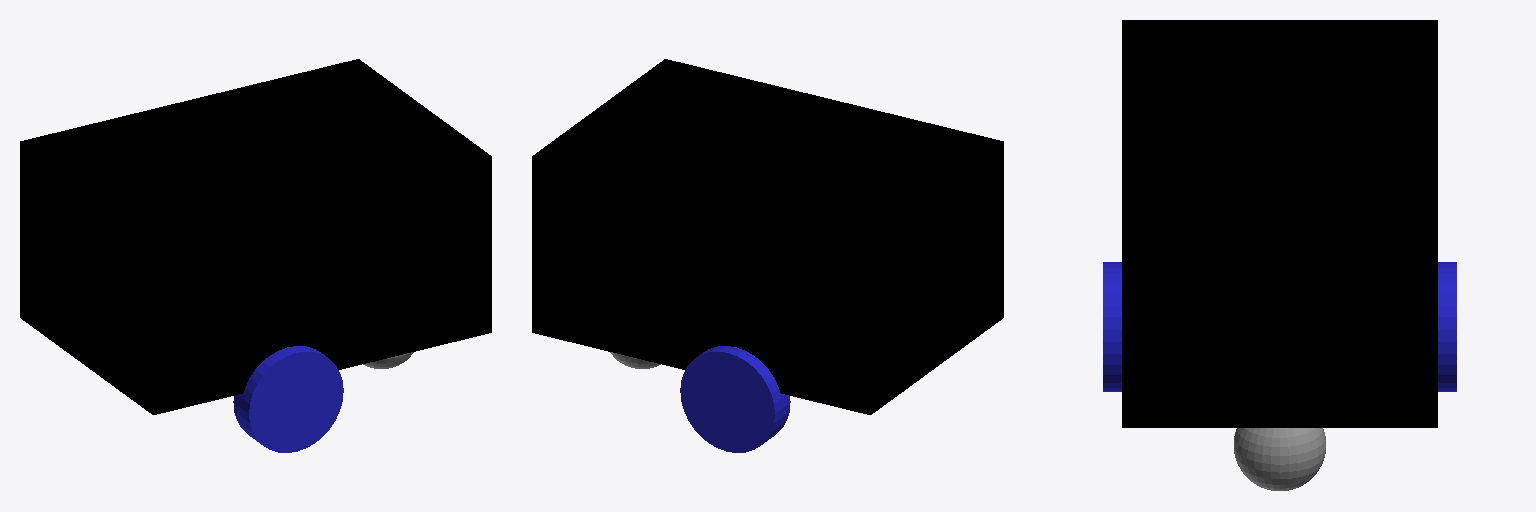
The robot description file, URDF, robot "burger_gazebo":
<?xml version="1.0"?>
<robot name="burger_gazebo">

  <!-- ================= MATERIALI ================= -->
  <material name="black"><color rgba="0.05 0.05 0.05 1"/></material>
  <material name="gray"><color rgba="0.6 0.6 0.6 1"/></material>
  <material name="green"><color rgba="0.2 0.8 0.2 1"/></material>
  <material name="blue"><color rgba="0.2 0.2 0.8 1"/></material>
  <material name="semi_black"><color rgba="0 0 0 0.8"/></material>

  <!-- ================= BASE FOOTPRINT ================= -->
  <link name="base_footprint"/>

  <joint name="base_footprint_to_base_link" type="fixed">
    <parent link="base_footprint"/>
    <child link="base_link"/>
    <origin xyz="0.025 0 0.043"/>
  </joint>

  <!-- ================= BASE LINK ================= -->
  <link name="base_link">
    <visual>
      <geometry><box size="0.25 0.17 0.125"/></geometry>
      <origin xyz="0 0 0.0625"/>
      <material name="semi_black"/>
    </visual>

    <collision>
      <geometry><box size="0.25 0.17 0.125"/></geometry>
      <origin xyz="0 0 0.0625"/>
    </collision>

    <inertial>
      <mass value="3.0"/>
      <origin xyz="0 0 0.0625"/>
      <inertia
        ixx="0.011"
        iyy="0.019"
        izz="0.023"
        ixy="0" ixz="0" iyz="0"/>
    </inertial>
  </link>

  <!-- ================= RUOTA SINISTRA ================= -->
  <link name="left_wheel">
    <visual>
      <geometry><cylinder radius="0.035" length="0.02"/></geometry>
      <material name="blue"/>
    </visual>

    <collision>
      <geometry><cylinder radius="0.035" length="0.02"/></geometry>
    </collision>

    <inertial>
      <mass value="0.2"/>
      <inertia ixx="0.0001" iyy="0.0001" izz="0.0001"
               ixy="0" ixz="0" iyz="0"/>
    </inertial>
  </link>

  <joint name="left_wheel_joint" type="continuous">
    <parent link="base_link"/>
    <child link="left_wheel"/>
    <origin xyz="-0.025 0.085 -0.010" rpy="1.570796 0 0"/>
    <axis xyz="0 1 0"/>
  </joint>

  <!-- ================= RUOTA DESTRA ================= -->
  <link name="right_wheel">
    <visual>
      <geometry><cylinder radius="0.035" length="0.02"/></geometry>
      <material name="blue"/>
    </visual>

    <collision>
      <geometry><cylinder radius="0.035" length="0.02"/></geometry>
    </collision>

    <inertial>
      <mass value="0.2"/>
      <inertia ixx="0.0001" iyy="0.0001" izz="0.0001"
               ixy="0" ixz="0" iyz="0"/>
    </inertial>
  </link>

  <joint name="right_wheel_joint" type="continuous">
    <parent link="base_link"/>
    <child link="right_wheel"/>
    <origin xyz="-0.025 -0.085 -0.010" rpy="1.570796 0 0"/>
    <axis xyz="0 1 0"/>
  </joint>

  <!-- ================= SFERA PASSIVA ================= -->
  <link name="front_ball">
    <visual>
      <geometry><sphere radius="0.025"/></geometry>
      <material name="gray"/>
    </visual>

    <collision>
      <geometry><sphere radius="0.025"/></geometry>
    </collision>

    <inertial>
      <mass value="0.05"/>
      <inertia ixx="1e-4" iyy="1e-4" izz="1e-4"/>
    </inertial>
  </link>

  <joint name="front_ball_joint" type="fixed">
    <parent link="base_link"/>
    <child link="front_ball"/>
    <origin xyz="0.093 0 -0.025"/>
  </joint>

  <!-- ================= PLUGIN DI LOCOMOZIONE ================= -->
  <gazebo>
    <plugin name="diff_drive" filename="libgazebo_ros_diff_drive.so">
      <left_joint>left_wheel_joint</left_joint>
      <right_joint>right_wheel_joint</right_joint>
      <wheel_separation>0.20</wheel_separation>
      <wheel_radius>0.035</wheel_radius>
      <command_topic>cmd_vel</command_topic>
      <odometry_topic>odom</odometry_topic>
      <base_frame>base_link</base_frame>
      <odom_frame>odom</odom_frame>
      <publish_odom>true</publish_odom>
      <update_rate>100</update_rate>
    </plugin>
  </gazebo>

</robot>

--- What the picture shows (computed from the rendered views, not written in the file) ---
3 views of the same robot in one strip: view 1: azimuth 30°, elevation 25°; view 2: azimuth 150°, elevation 25°; view 3: azimuth 270°, elevation 25° (orthographic).
Model burger_gazebo with 5 links and 4 joints (2 continuous, 2 fixed), rooted at base_footprint, posed all joints at 0.
Visible links, largest first — view 1: base_link, right_wheel; view 2: base_link, left_wheel; view 3: base_link, front_ball, left_wheel, right_wheel.
Boxes of the visible links, x1,y1,x2,y2 form: base_link: [20, 59, 491, 414]; right_wheel: [233, 346, 343, 452]; base_link: [532, 59, 1003, 414]; left_wheel: [680, 346, 790, 452]; base_link: [1122, 20, 1437, 427]; front_ball: [1234, 428, 1325, 490]; left_wheel: [1438, 262, 1456, 391]; right_wheel: [1103, 262, 1121, 391].
Bounding box of the posed robot: 0.25 × 0.19 × 0.175 m (x, y, z).
Geometry: primitives only (box / cylinder / sphere), no mesh files.